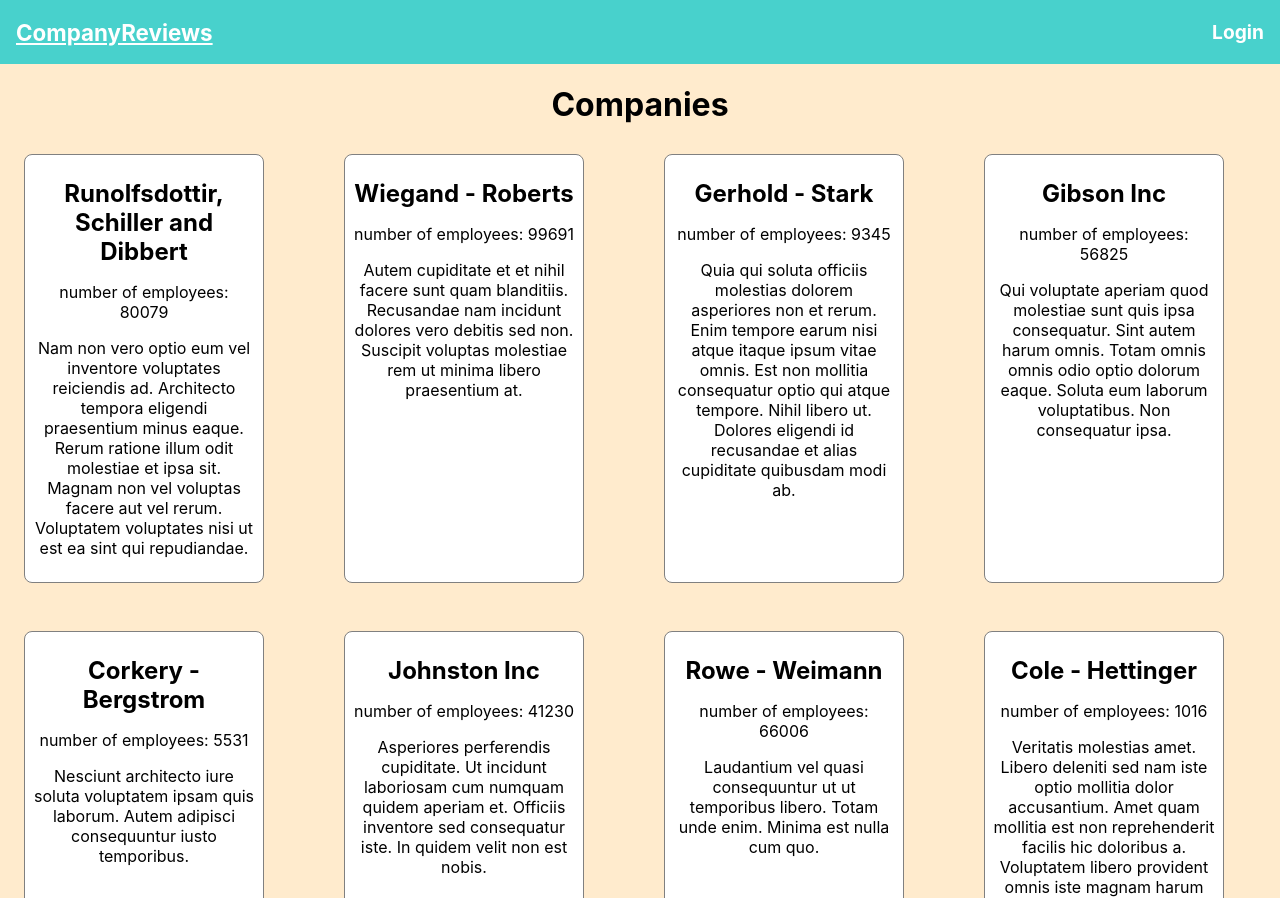
Test: App › login flow › should go to login page
Click the link "Login" at point(1238, 32), box 1212,20 -> 1264,44
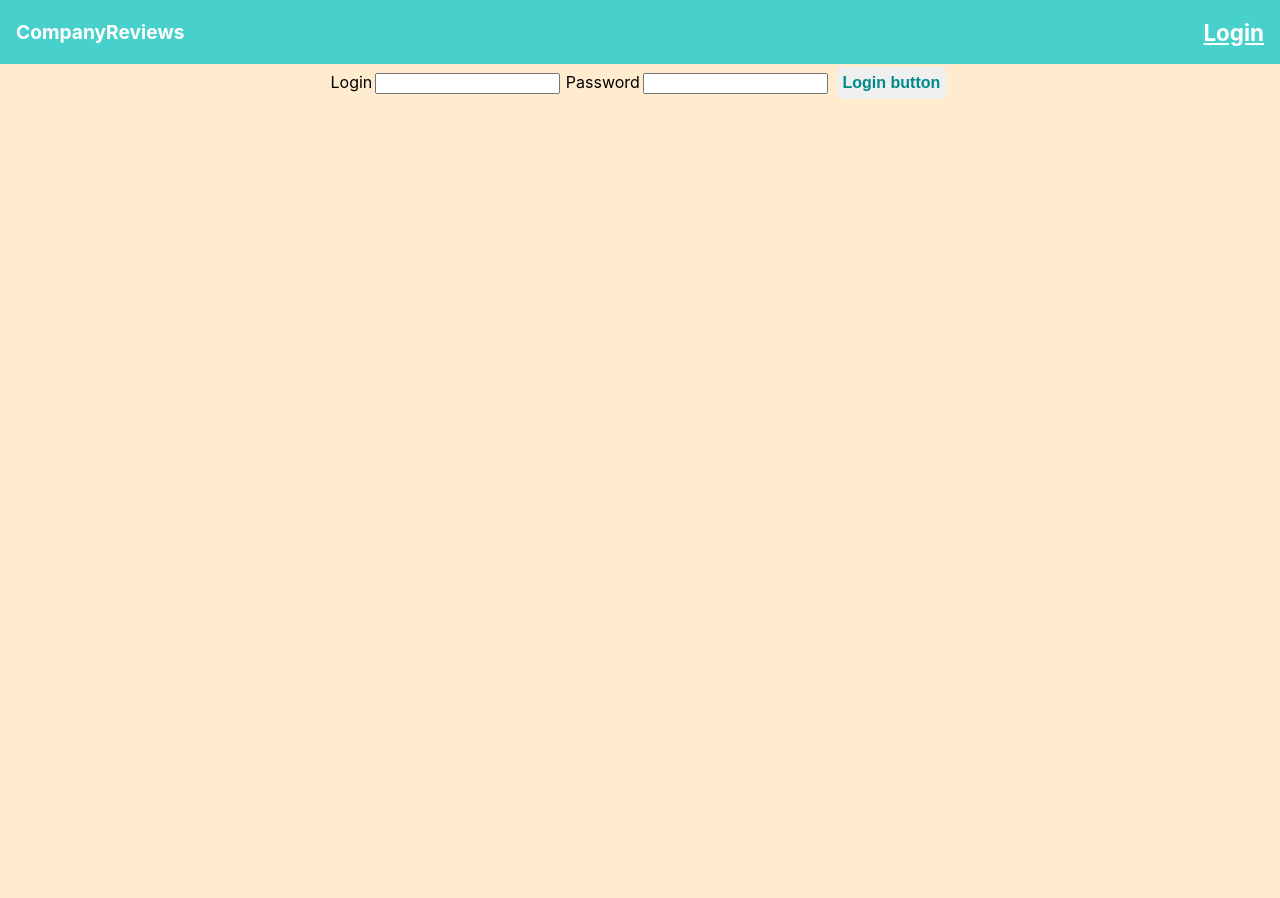
Now the element with test id "login" is shown, box 330,67 -> 946,99
Type "ap" into the field named "login" at point(468, 83), box 375,73 -> 560,94
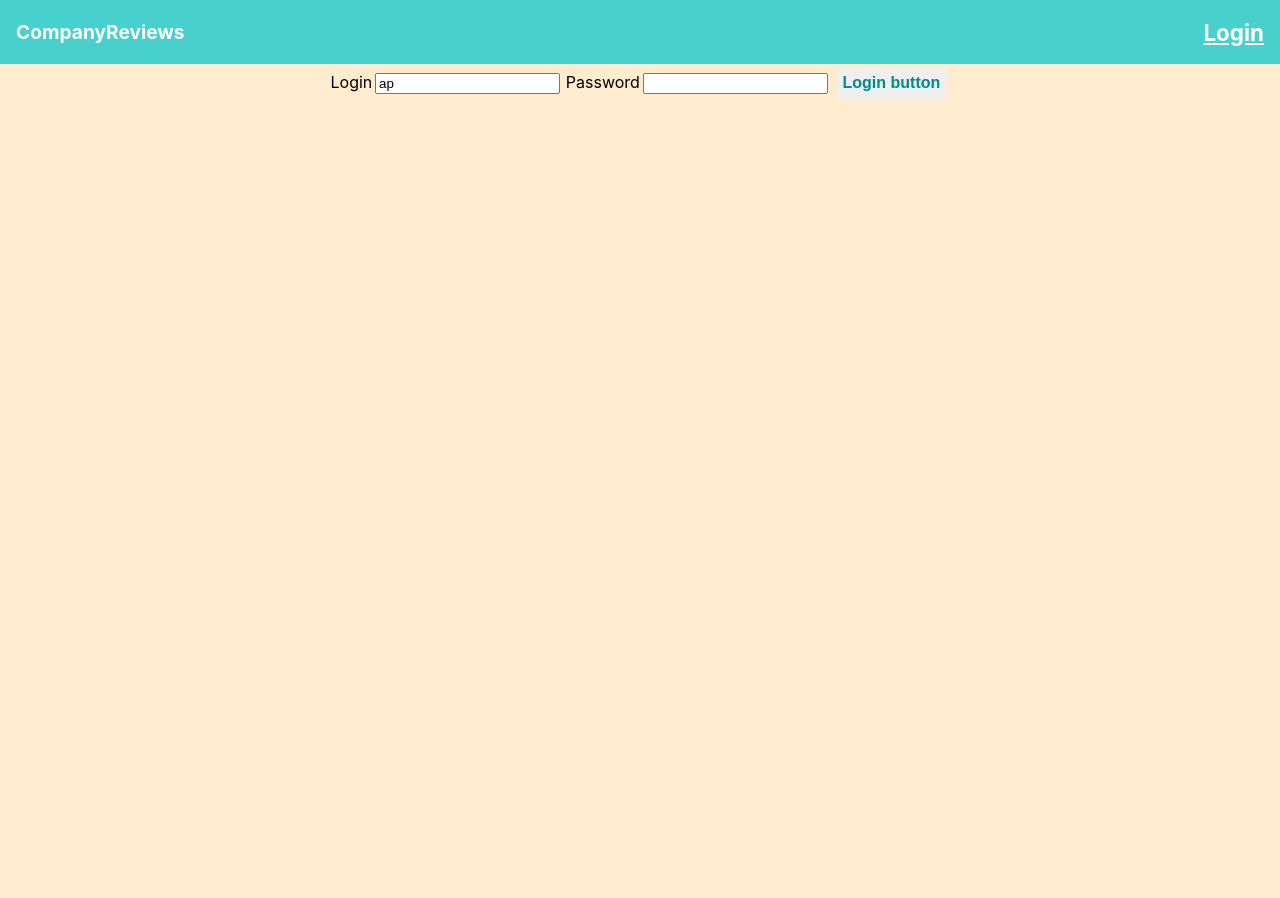
Type "password" into the password field named "password" at point(735, 83), box 642,73 -> 828,94
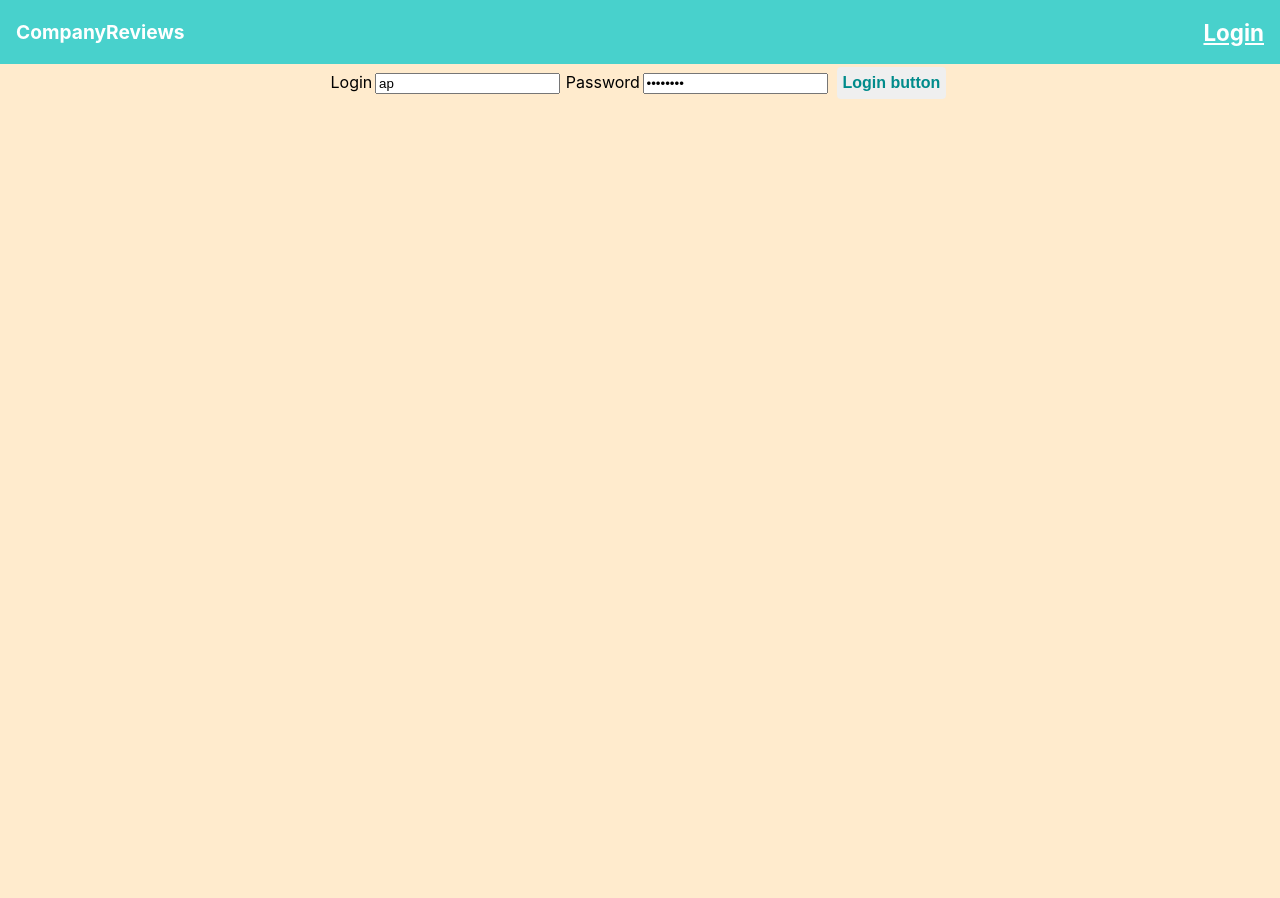
Click the button with test id "login-button" at point(891, 83), box 836,67 -> 946,99
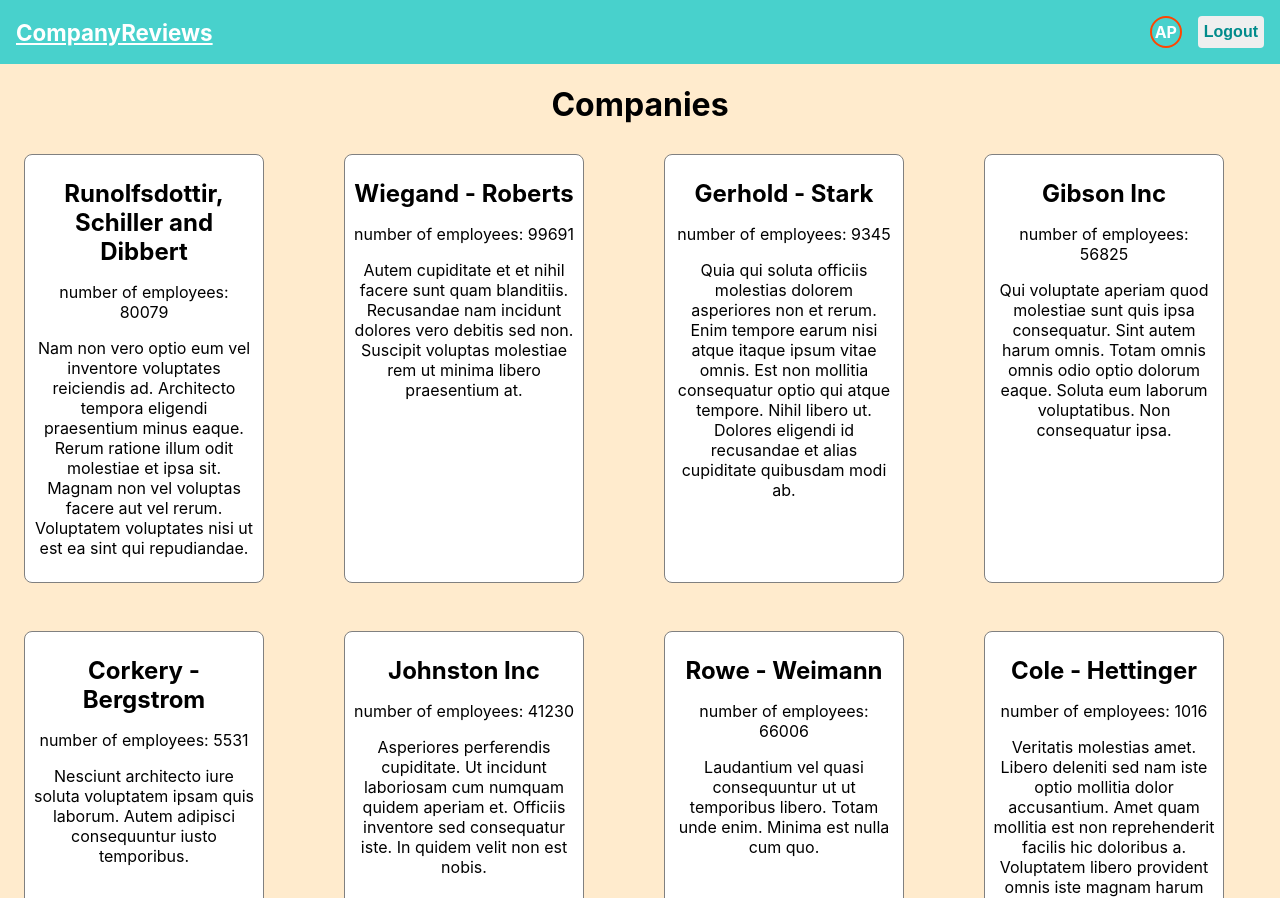
Now the button "Logout" is shown
Click the button "Logout" at point(1231, 32), box 1198,16 -> 1264,48
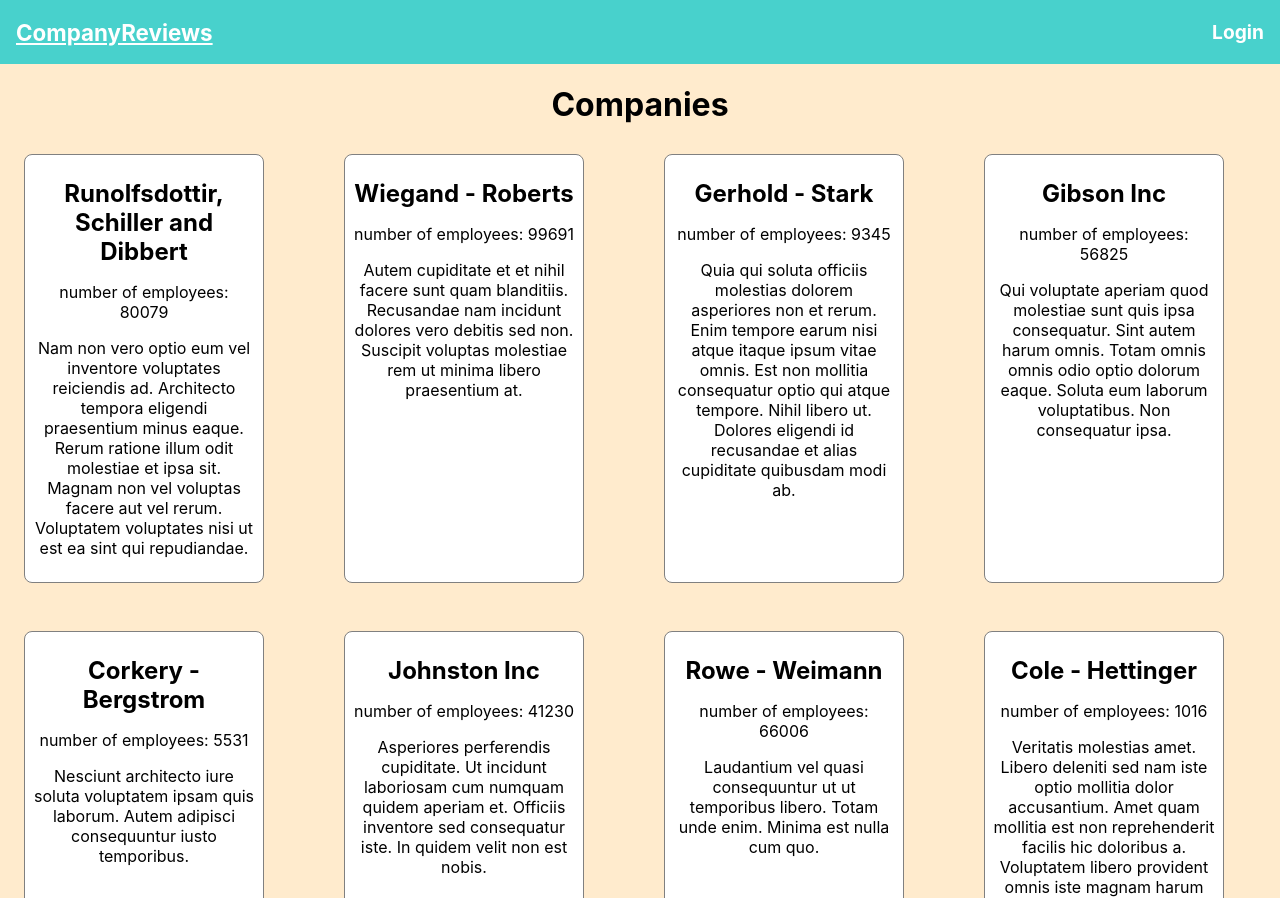
Now the link "Login" is shown, box 1212,20 -> 1264,44
